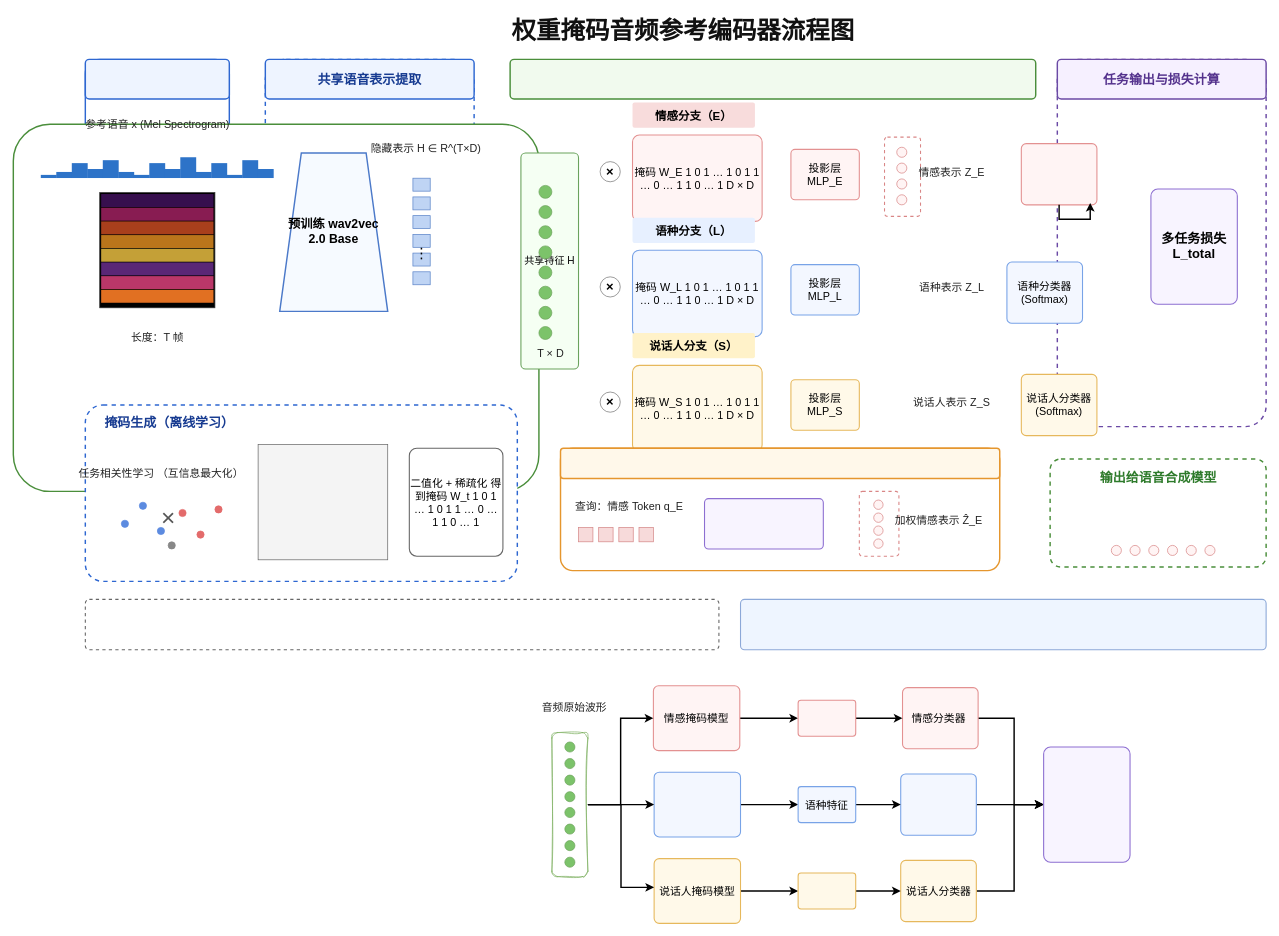
Some shapes in this 1279 by 936 pixel diagram are drawn without their labels. The centre of each missing label's shape, as x and y in pixels:
"图例说明： ⊗ 元素级乘法（掩码作用） 0/1 掩码权重（保留/屏蔽） W_t 不同任务的二值掩码（t∈{E,L,S}）" belongs at point 401,624.
"多任务损失" belongs at point 1086,804.
"多头注意力 Multi-Head Attention" belongs at point 764,523.
"情感分类器 (Softmax)" belongs at point 1058,174.
"情感注意力机制（仅作用于情感分支）" belongs at point 779,463.
"情感特征" belongs at point 826,717.
"权重掩码多任务编码器" belongs at point 772,78.
"相关性矩阵 R_t ∈ R^(D×D) 高相关(1) ▉▆▅▇▃ ▅▇▆▃▉ ▃▅▇▆▅ 低相关(0)" belongs at point 322,502.
"语种分类器" belongs at point 938,804.
"语种掩码模型" belongs at point 697,804.
"说明： • 掩码学习目标：保留与本任务高度相关的特征，屏蔽无关信息。 • 多任务联合训练：通过多任务损失使共享表示包含各任务所需信息。" belongs at point 1003,624.
"说话人特征" belongs at point 826,890.
"输入" belongs at point 157,78.
